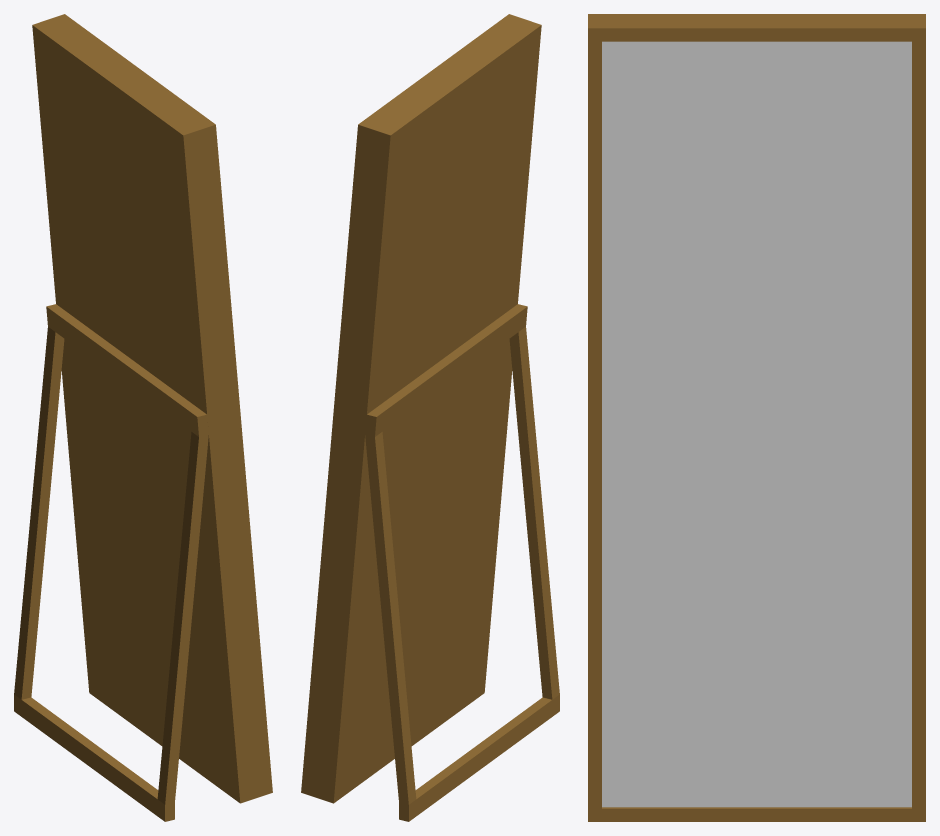
Rendered from teleport.fbx.
3 views of the same model, side by side, from view 1: azimuth 30°, elevation 25°; view 2: azimuth 150°, elevation 25°; view 3: azimuth 270°, elevation 25° (orthographic). The views are drawn at different scales.
Parts seen in each view (by area): view 1: mirror; view 2: mirror; view 3: glass, mirror.
Boxes of the visible parts, bbox=[...] form: mirror: bbox=[14, 14, 272, 821]; mirror: bbox=[301, 14, 559, 821]; glass: bbox=[602, 41, 911, 807]; mirror: bbox=[588, 14, 925, 821].
Size of the model in its own units: 32.96 by 200 by 80.
